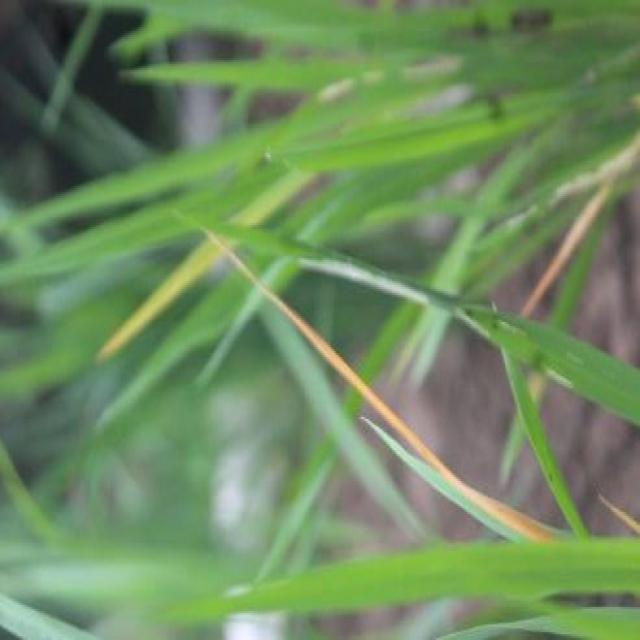Tungro: (218, 235, 547, 538)
